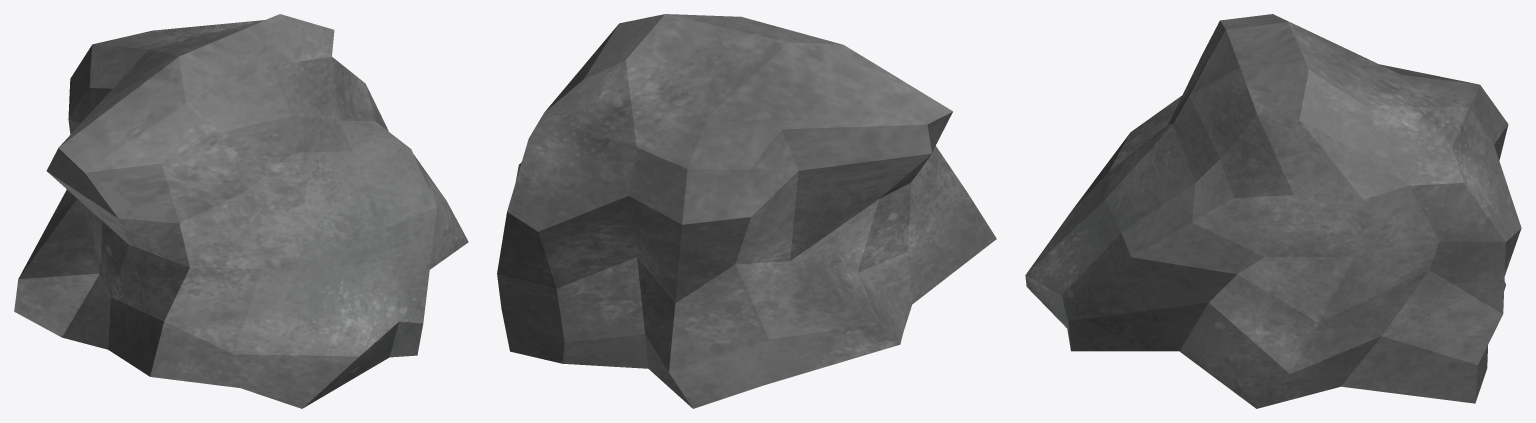
The model's file is Stein2.fbx.
The picture shows the model from 3 angles, left to right: view 1: azimuth 30°, elevation 25°; view 2: azimuth 150°, elevation 25°; view 3: azimuth 270°, elevation 25°; orthographic projection. The views are drawn at different scales.
Parts seen in each view (by area): view 1: Cube.001; view 2: Cube.001; view 3: Cube.001.
Part boxes in pixels (x1,y1,x2,y2): Cube.001: [14, 14, 468, 408]; Cube.001: [497, 14, 996, 408]; Cube.001: [1025, 14, 1521, 408].
Size of the model in its own units: 345 by 233 by 349.
